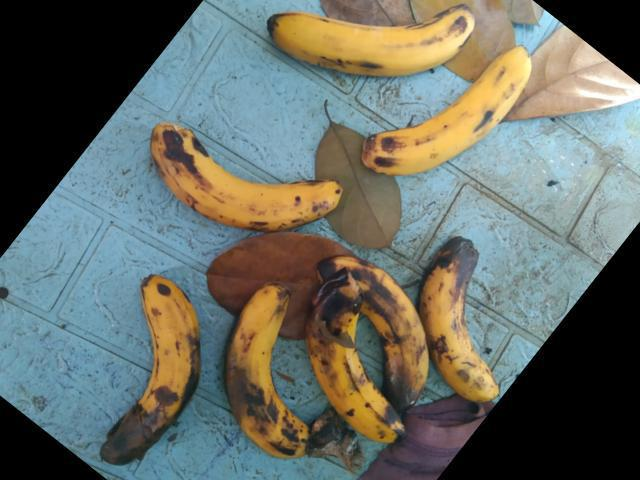overripe: (133, 104, 341, 232)
ripe: (358, 37, 545, 195), (243, 0, 481, 82)
rotten: (65, 267, 212, 479), (213, 276, 306, 479), (421, 222, 510, 434), (309, 262, 409, 447)
